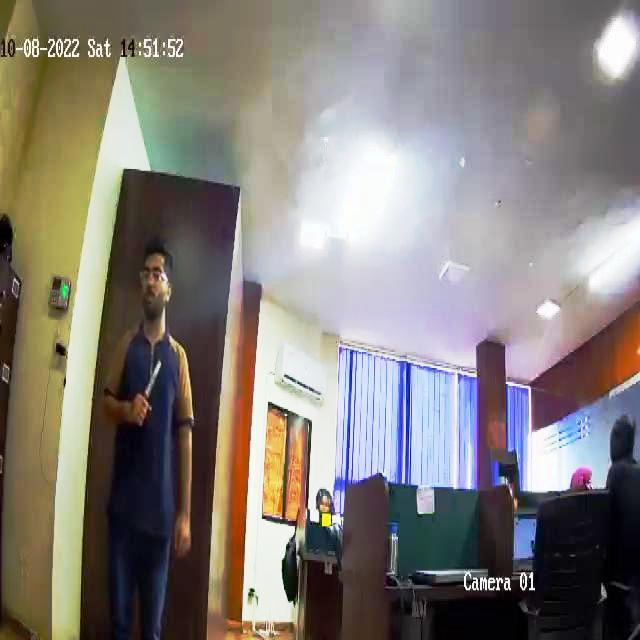Knife: (127, 352, 175, 419)
